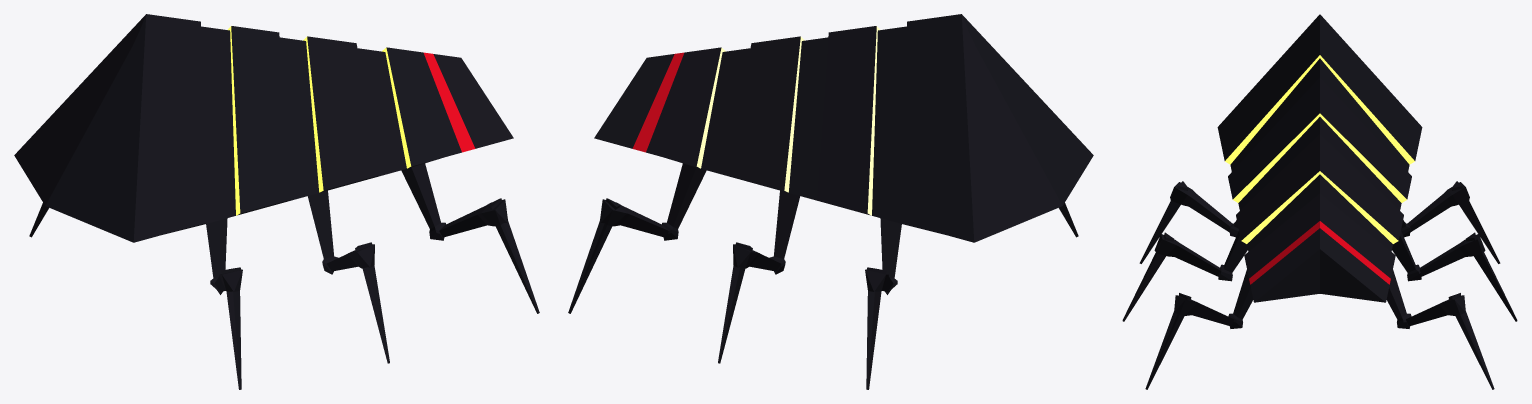
The model's file is bomb_tick_a.fbx.
3 renders of one model, left to right at view 1: azimuth 30°, elevation 25°; view 2: azimuth 150°, elevation 25°; view 3: azimuth 270°, elevation 25°, orthographic. The views are drawn at different scales.
Visible parts, largest first — view 1: bomb_tick.001, leg.005, leg.003, leg.004; view 2: bomb_tick.001, leg.002, leg, leg.001; view 3: bomb_tick.001, leg, leg.003, leg.002, leg.005, leg.001, leg.004.
Boxes of the visible parts, x1=… form: bomb_tick.001: x1=14, y1=14, x2=513, y2=242; leg.005: x1=401, y1=163, x2=539, y2=313; leg.003: x1=307, y1=190, x2=389, y2=363; leg.004: x1=206, y1=218, x2=242, y2=389; bomb_tick.001: x1=594, y1=14, x2=1093, y2=242; leg.002: x1=568, y1=163, x2=706, y2=313; leg: x1=718, y1=190, x2=800, y2=363; leg.001: x1=865, y1=218, x2=901, y2=389; bomb_tick.001: x1=1217, y1=14, x2=1422, y2=302; leg: x1=1392, y1=231, x2=1517, y2=321; leg.003: x1=1122, y1=231, x2=1247, y2=321; leg.002: x1=1386, y1=270, x2=1494, y2=389; leg.005: x1=1145, y1=270, x2=1253, y2=389; leg.001: x1=1401, y1=181, x2=1500, y2=263; leg.004: x1=1139, y1=181, x2=1238, y2=263.
Size of the model in its own units: 85.03 by 56.14 by 78.95.
